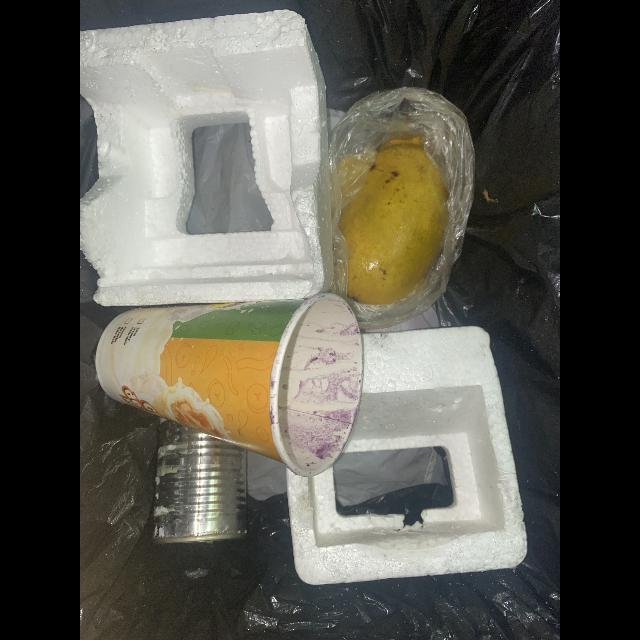biowaste: (338, 137, 449, 306)
metal: (152, 424, 251, 548)
paper: (95, 295, 364, 478)
plastic: (320, 86, 477, 336)
styrofoam: (80, 10, 329, 310), (285, 326, 528, 586)
